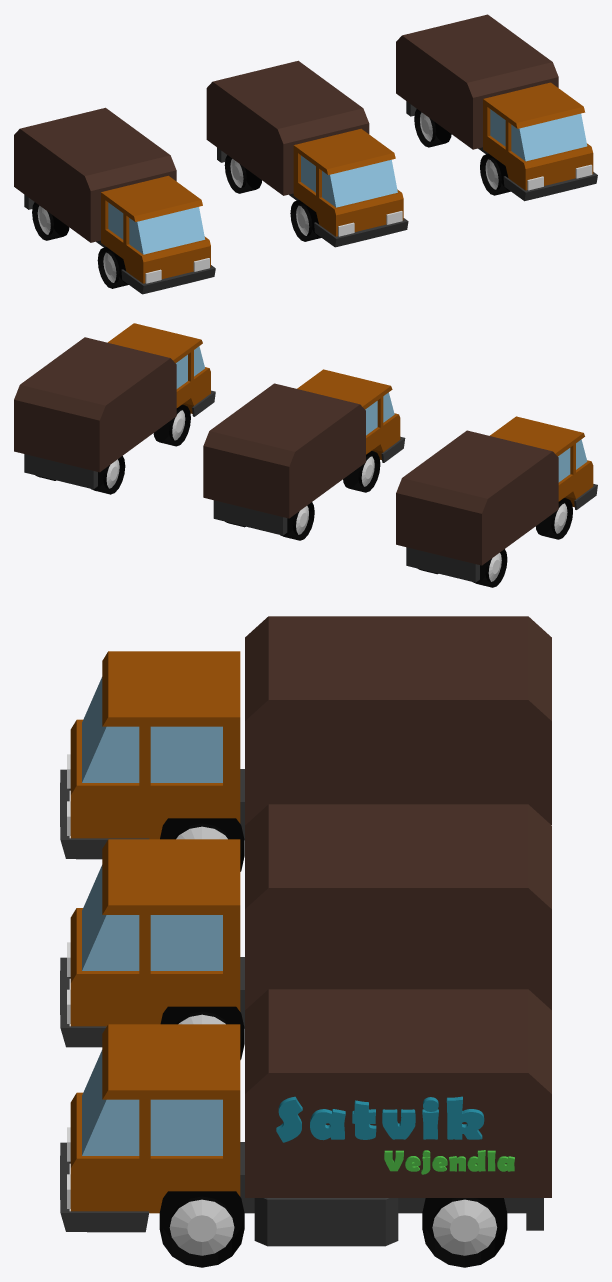
Rendered from factorylowpoly.fbx.
3 renders of one model, top to bottom at view 1: azimuth 30°, elevation 25°; view 2: azimuth 150°, elevation 25°; view 3: azimuth 270°, elevation 25°, orthographic. The views are drawn at different scales.
Parts seen in each view (by area): view 1: Plane.010, Plane.015, Plane.003, Truck.001, Truck, Truck.002, Plane.009, Plane.004, Plane.014, Circle.003, Circle.002, Circle.005 (+5 smaller); view 2: Plane.015, Plane.003, Plane.010, Truck.002, Truck, Truck.001, Plane.011, Plane.002, Plane.016, Circle.002, Circle.005, Circle.003 (+3 smaller); view 3: Plane.015, Plane.010, Plane.003, Truck, Truck.002, Truck.001, Plane.006, Circle.002, Circle.001, Plane.004, Text.001, Circle.005 (+8 smaller).
Boxes of the visible parts, <box> form: Plane.010: <box>206,60,369,195</box>; Plane.015: <box>14,107,176,242</box>; Plane.003: <box>396,14,558,149</box>; Truck.001: <box>293,128,403,236</box>; Truck: <box>483,82,593,190</box>; Truck.002: <box>101,175,210,283</box>; Plane.009: <box>314,218,408,247</box>; Plane.004: <box>503,172,597,201</box>; Plane.014: <box>121,265,215,294</box>; Circle.003: <box>290,200,321,241</box>; Circle.002: <box>480,153,510,195</box>; Circle.005: <box>97,247,128,288</box>; Plane.015: <box>396,430,558,565</box>; Plane.003: <box>14,337,176,472</box>; Plane.010: <box>203,383,365,518</box>; Truck.002: <box>490,416,593,506</box>; Truck: <box>108,323,210,413</box>; Truck.001: <box>297,369,400,459</box>; Plane.011: <box>213,500,287,535</box>; Plane.002: <box>24,454,97,489</box>; Plane.016: <box>406,547,479,582</box>; Circle.002: <box>153,404,190,446</box>; Circle.005: <box>535,498,572,539</box>; Circle.003: <box>343,450,380,492</box>; Plane.015: <box>245,616,551,824</box>; Plane.010: <box>245,804,551,1009</box>; Plane.003: <box>245,989,551,1197</box>; Truck: <box>70,1024,240,1213</box>; Truck.002: <box>70,651,240,839</box>; Truck.001: <box>70,839,240,1026</box>; Plane.006: <box>254,1198,398,1246</box>; Circle.002: <box>159,1191,244,1267</box>; Circle.001: <box>422,1198,507,1267</box>; Plane.004: <box>60,1142,149,1232</box>; Text.001: <box>384,1150,514,1174</box>; Circle.005: <box>160,818,244,871</box>.
Size of what is drawn, in the model's own units: 1098 by 224 by 496.
